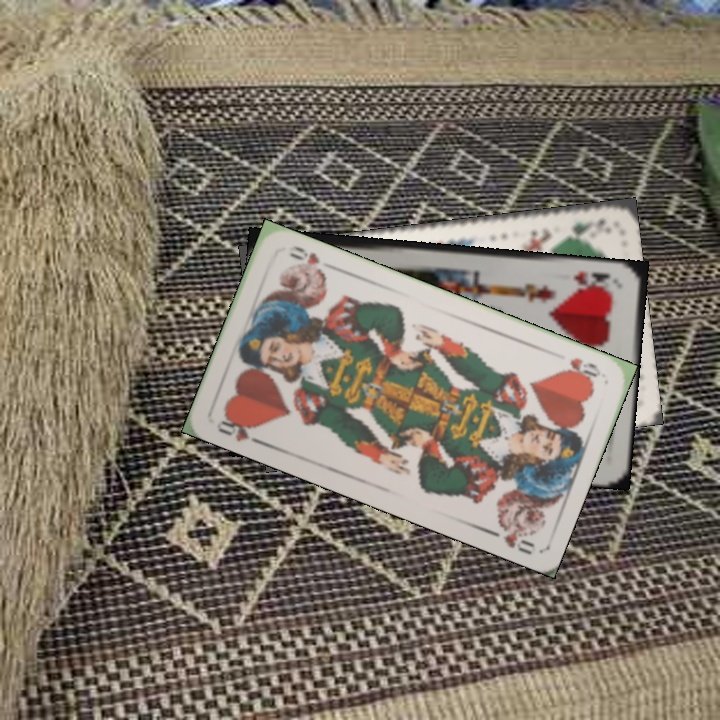GK: (558, 215, 613, 240)
HK: (569, 267, 616, 293)
HO: (214, 411, 268, 448), (558, 353, 606, 385)
